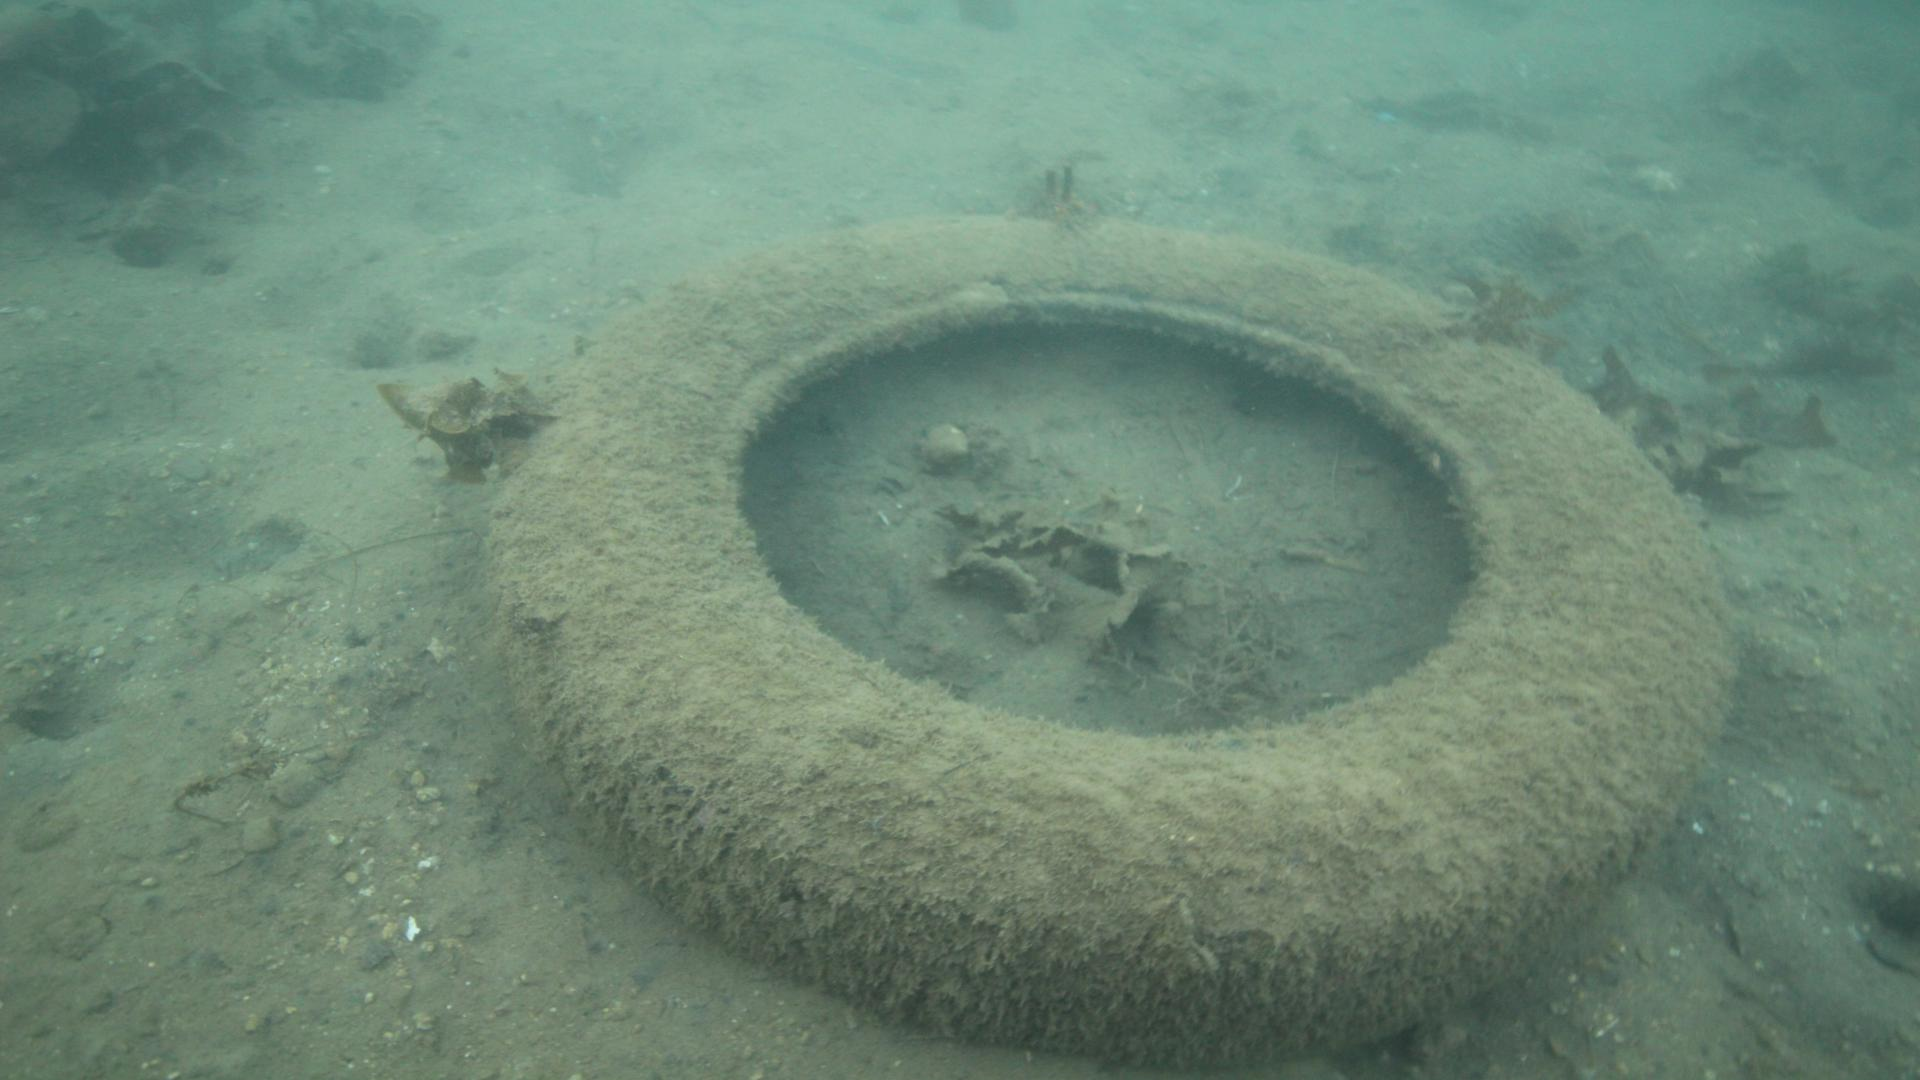tire: (484, 216, 1741, 1075)
